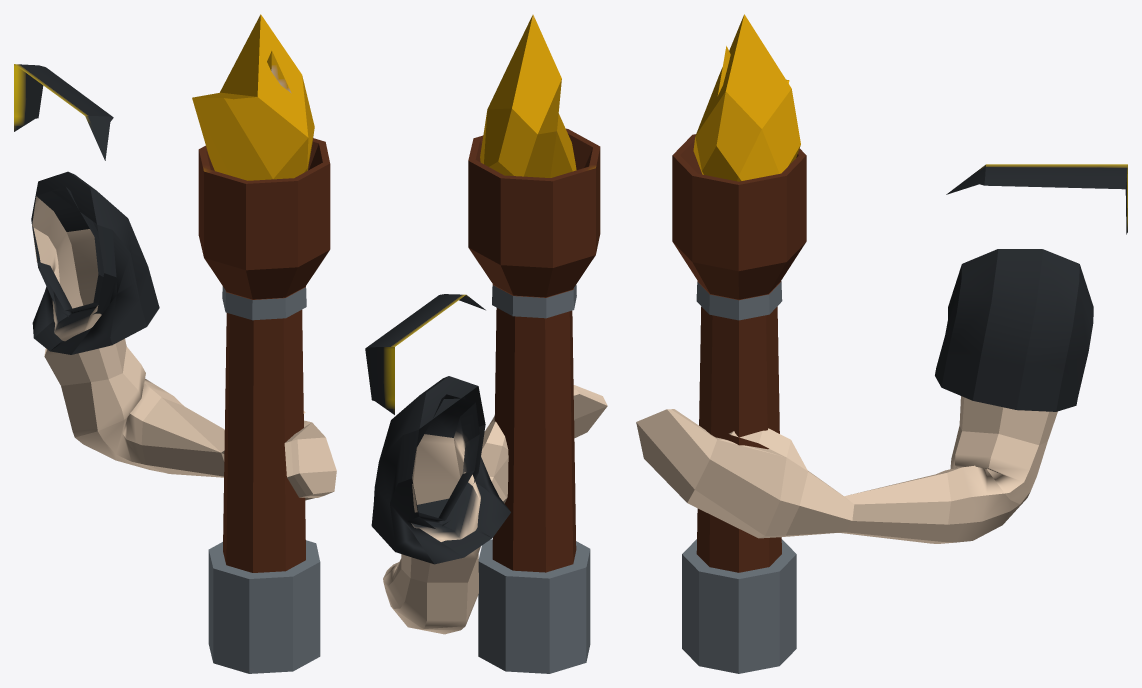
File: HombreGA_BrazoIzq_Flex.obj
The picture shows the model from 3 angles, left to right: view 1: azimuth 30°, elevation 25°; view 2: azimuth 150°, elevation 25°; view 3: azimuth 270°, elevation 25°; orthographic projection.
Visible parts, largest first — view 1: HombreGA_BrazoIzq_Flex; view 2: HombreGA_BrazoIzq_Flex; view 3: HombreGA_BrazoIzq_Flex.
Part boxes in pixels (x1,y1,x2,y2): HombreGA_BrazoIzq_Flex: [14, 14, 336, 673]; HombreGA_BrazoIzq_Flex: [365, 14, 607, 673]; HombreGA_BrazoIzq_Flex: [636, 14, 1127, 673].
Bounding box in the file's own units: 1.54 × 6.35 × 4.46.
1 material, 1 textured.
